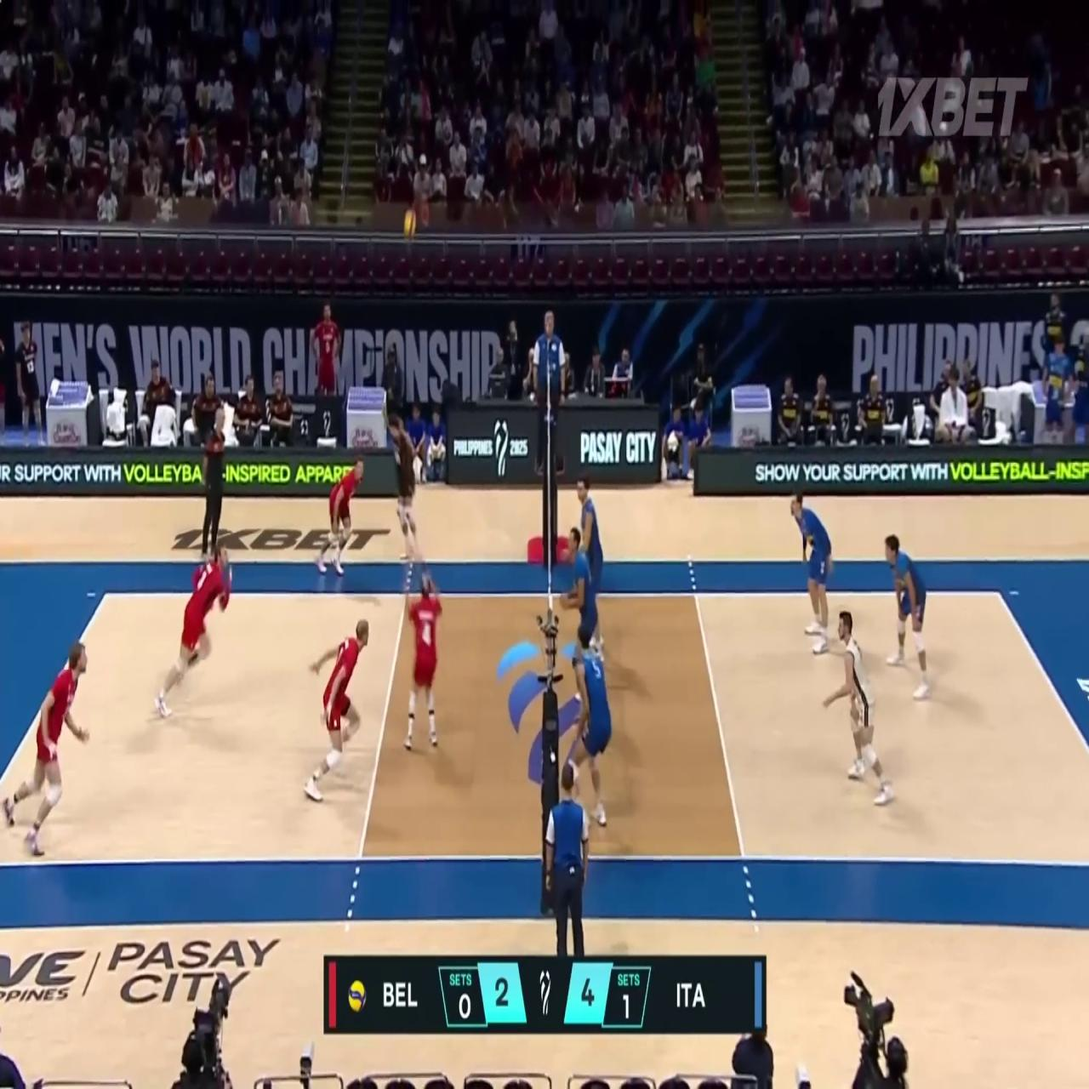ball: (404, 211, 417, 237)
